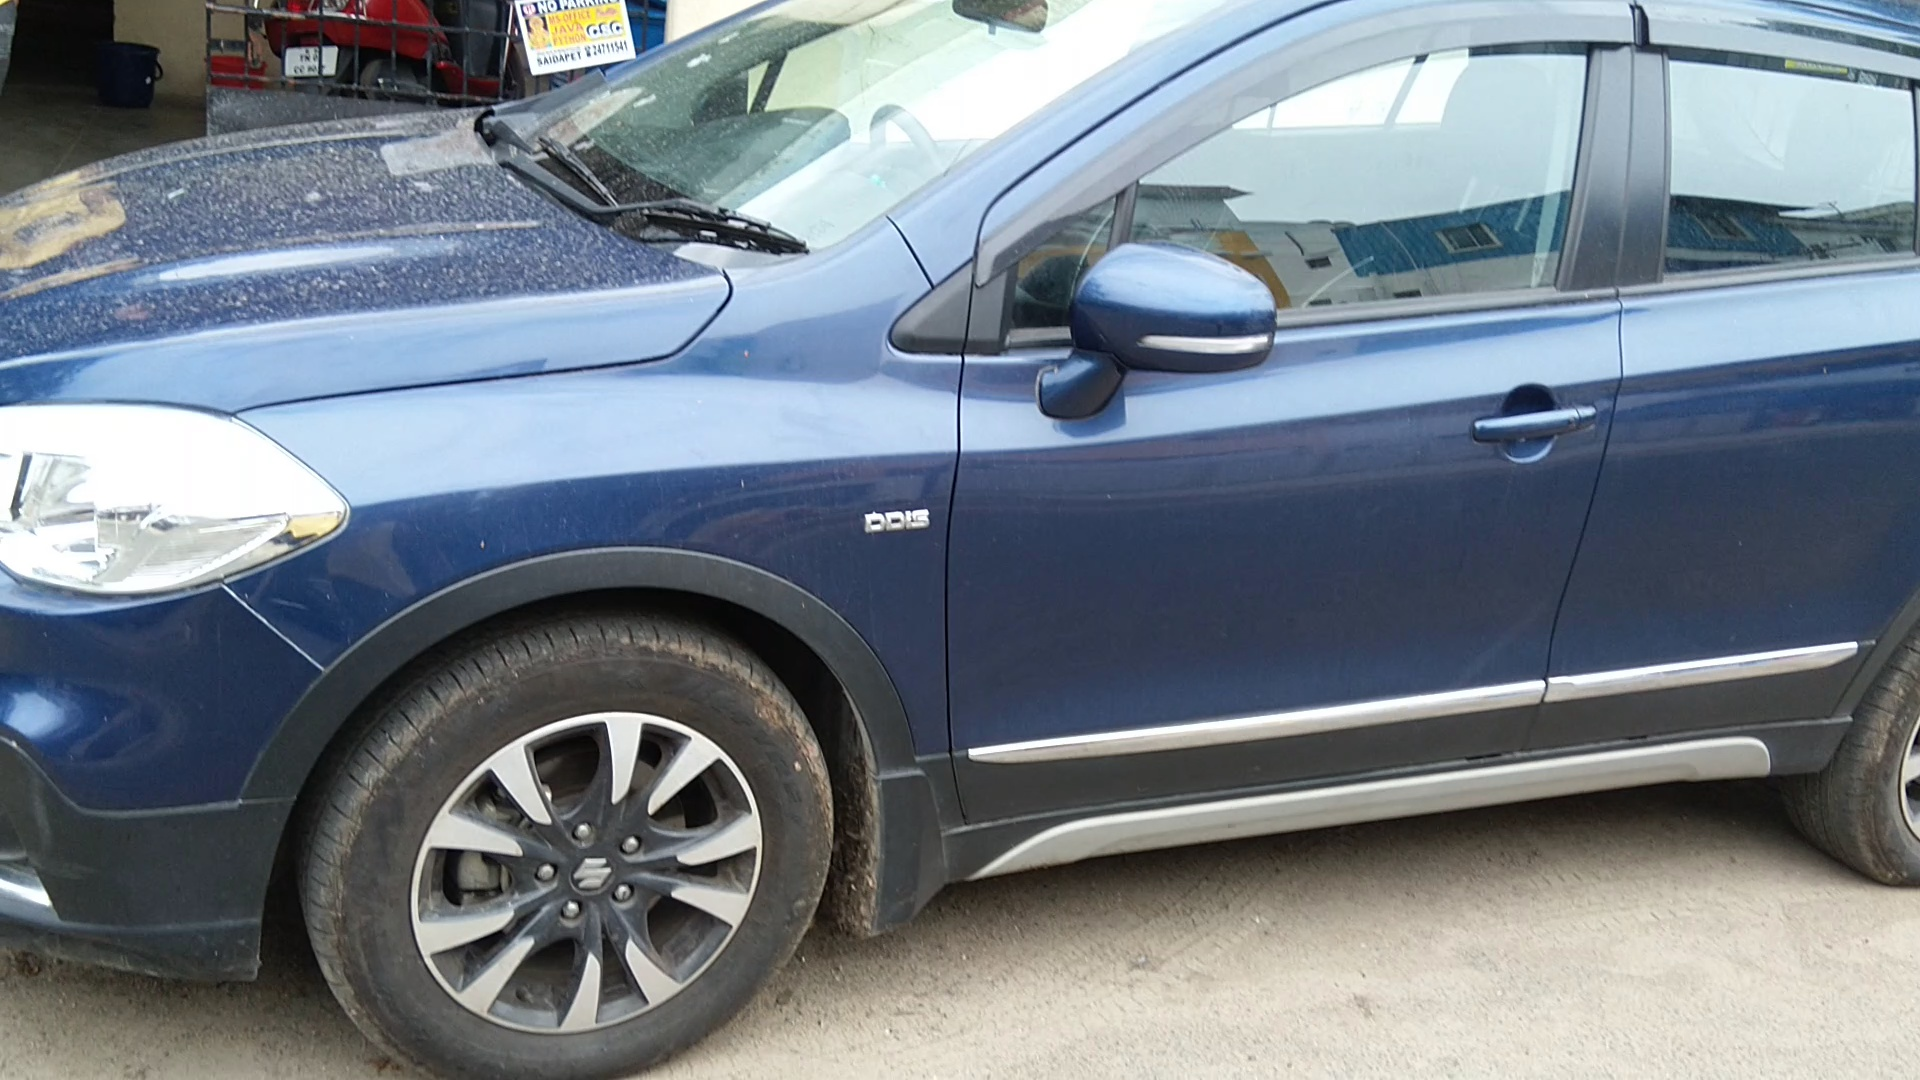alloy_wheel: (309, 637, 832, 1080)
headlamp: (1, 384, 376, 651)
ovr_mirror: (1058, 231, 1282, 422)
